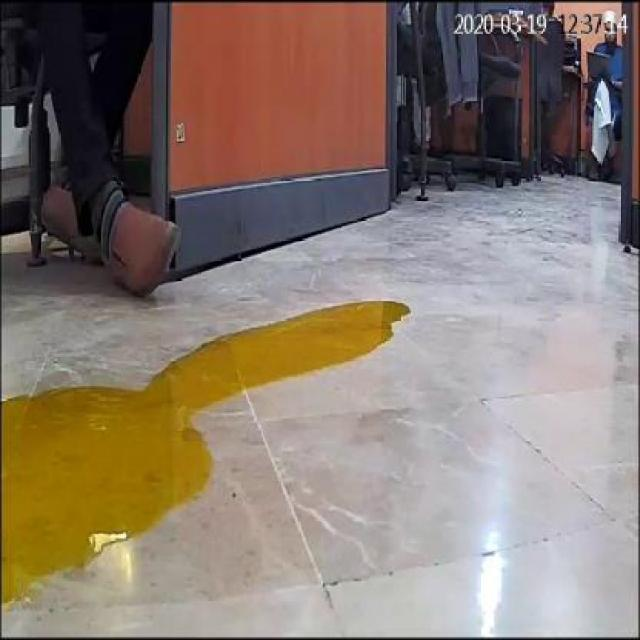spill: (1, 298, 412, 606)
